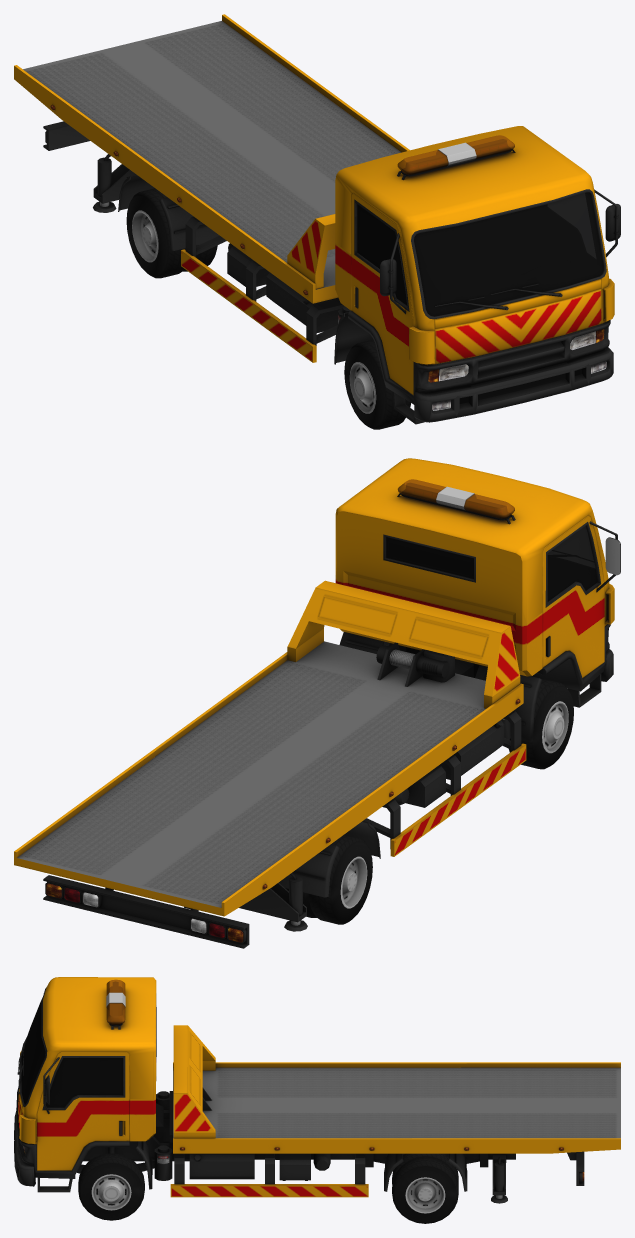
The model's file is veicolo_carro_attrezzi.glb.
The picture shows the model from 3 angles, top to bottom: view 1: azimuth 30°, elevation 25°; view 2: azimuth 150°, elevation 25°; view 3: azimuth 270°, elevation 25°; orthographic projection. The views are drawn at different scales.
Parts seen in each view (by area): view 1: sb_modello; view 2: sb_modello; view 3: sb_modello.
Part boxes in pixels (x1=…): sb_modello: x1=14, y1=14, x2=620, y2=429; sb_modello: x1=14, y1=458, x2=620, y2=948; sb_modello: x1=14, y1=977, x2=620, y2=1223.
Size of the model in its own units: 2.38 by 2.39 by 6.94.
4 materials, 4 textured.
